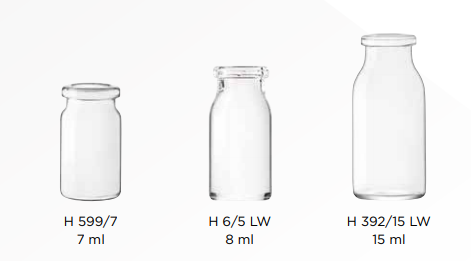glass_bottle: (350, 29, 426, 203), (202, 62, 277, 204), (58, 79, 124, 202)
